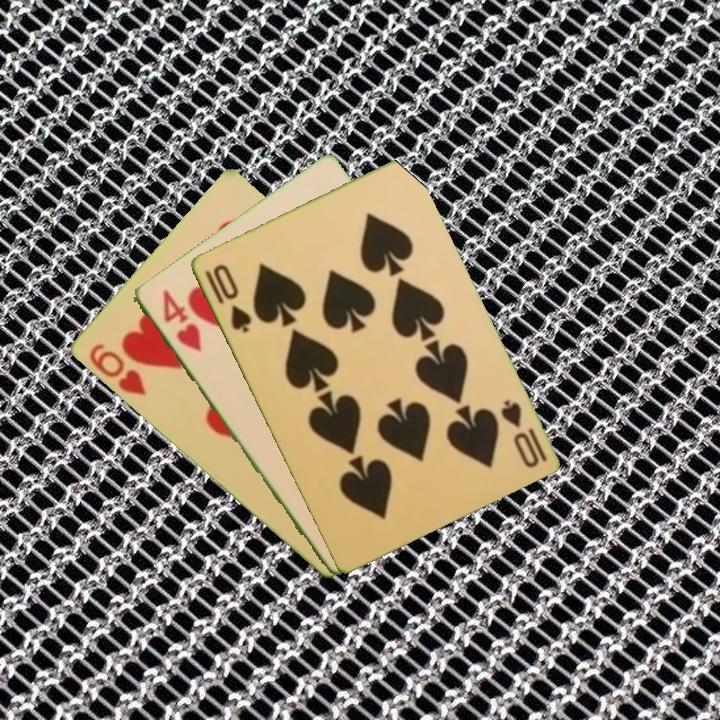10s: (200, 260, 254, 336), (496, 395, 550, 471)
4h: (158, 286, 205, 355)
6h: (85, 339, 149, 399)
